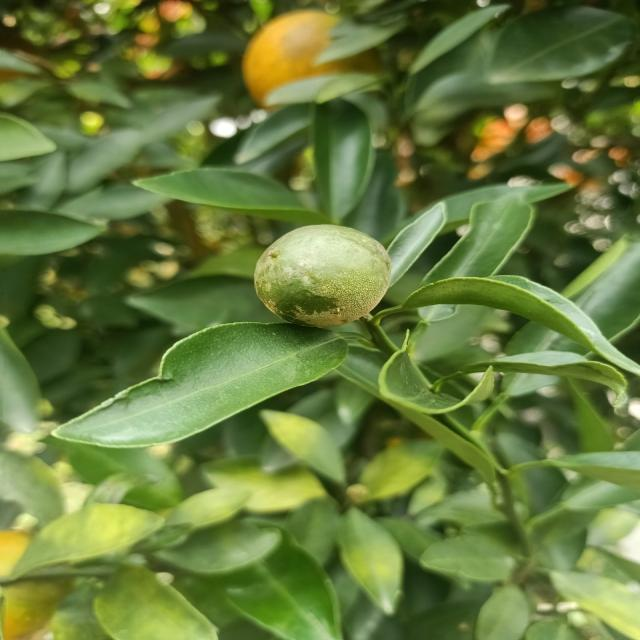healthy: (107, 330, 330, 434), (484, 4, 634, 83), (148, 169, 332, 219), (436, 193, 538, 283), (590, 234, 640, 322)
